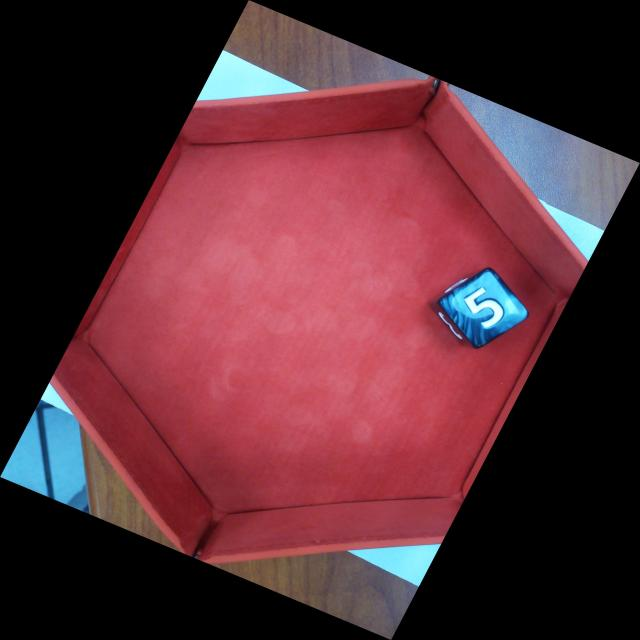dice: (439, 268, 534, 341)
